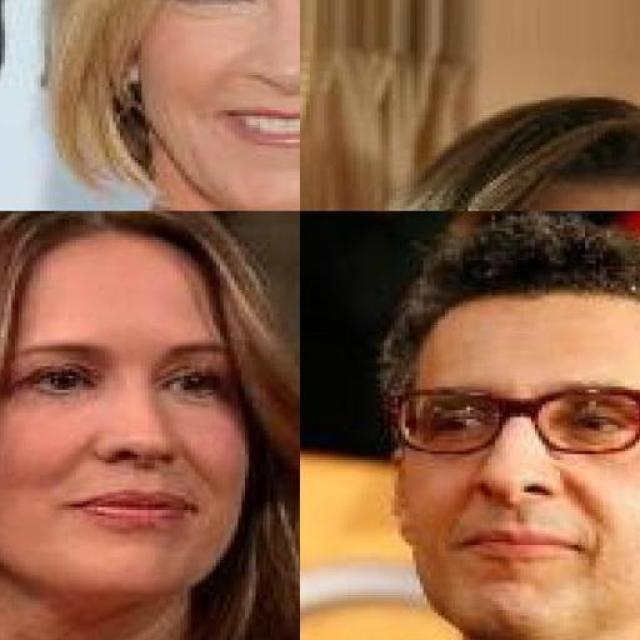bareface: (389, 262, 640, 638), (12, 216, 246, 604)
